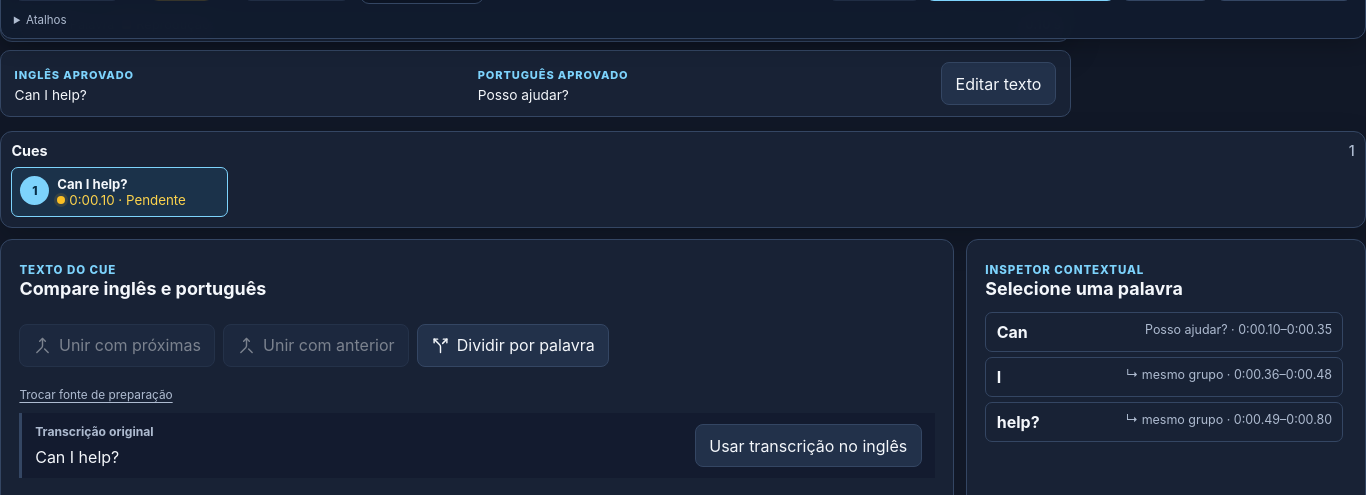
EditorialPage › reviews every word inside a semantic group with independent IN/OUT
(page scrolled)
Step 1. Click the button "Can Posso ajudar? · 0:00.10–0:00.35" → (1164, 332), box 985,312 -> 1343,352
(page scrolled)
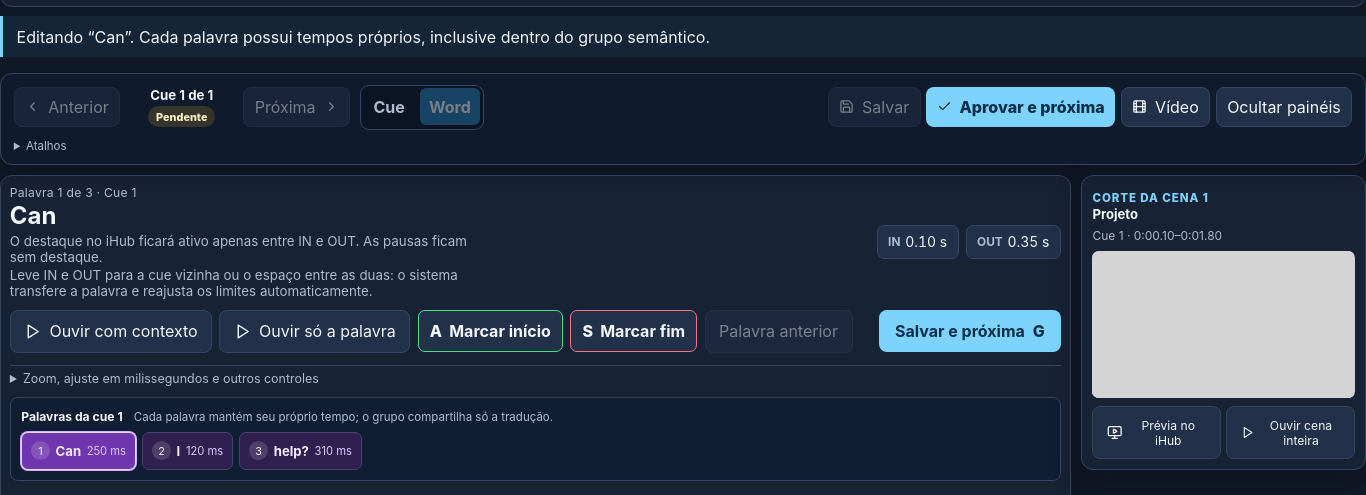
Expected: the text "Can" below "· Cue" is shown, 10,201 -> 56,230
Expected: the text "0.10 s" is shown, 905,234 -> 947,250
Expected: the text "0.35 s" is shown, 1008,234 -> 1049,250
Step 2. Click the button "Salvar e próxima G" → (970, 331), box 879,310 -> 1061,352
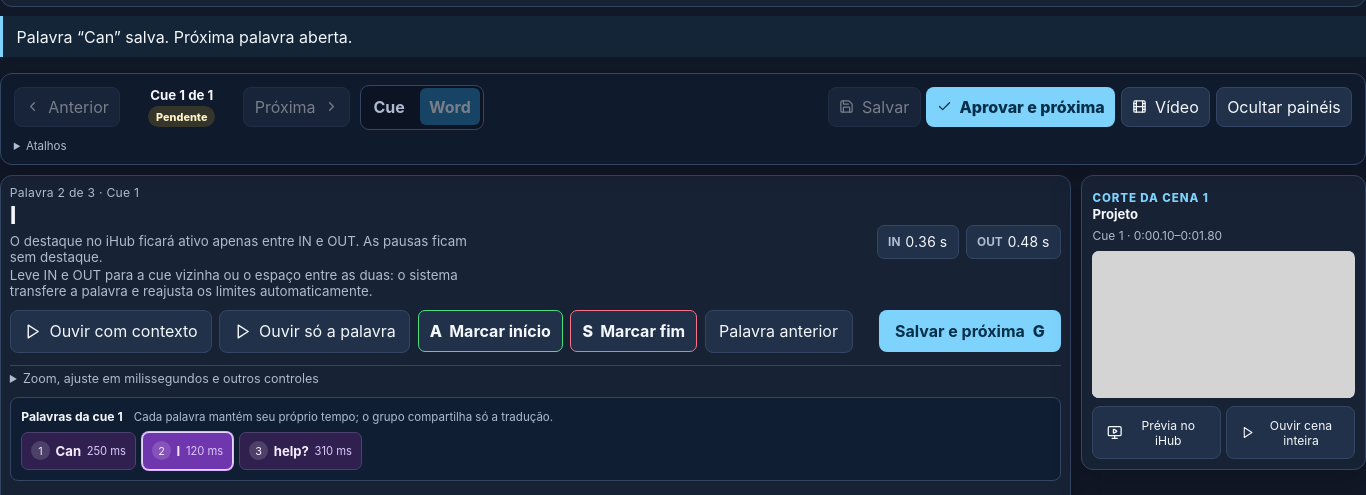
Expected: the text "0.36 s" is shown, 905,234 -> 947,250
Expected: the text "0.48 s" is shown, 1008,234 -> 1049,250
Step 3. Click the button "Salvar e próxima G" → (970, 331), box 879,310 -> 1061,352
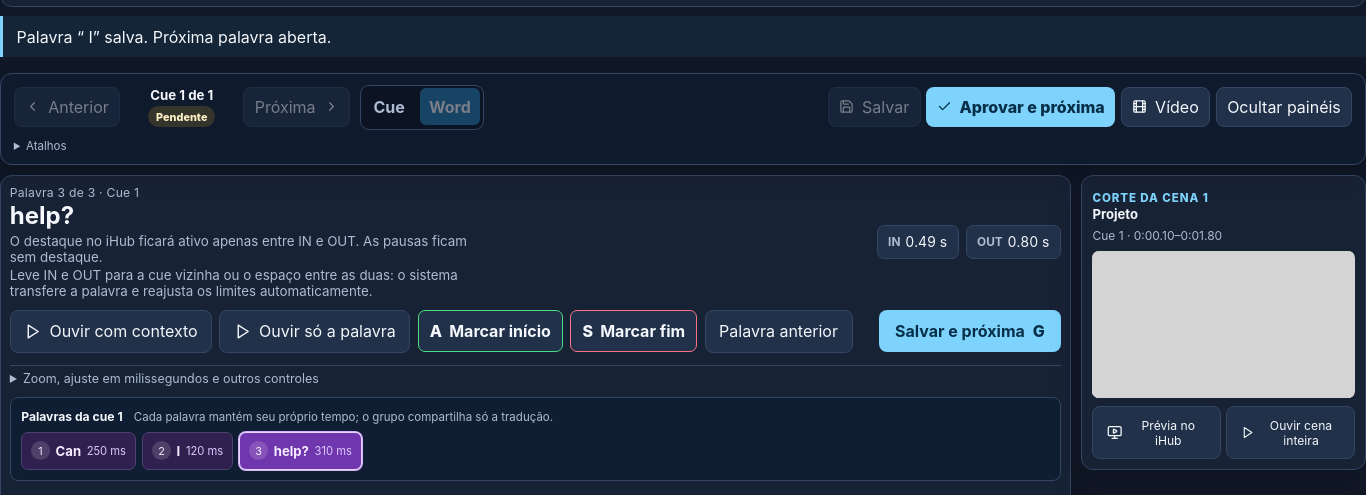
Expected: the text "0.49 s" is shown, 905,234 -> 947,250
Expected: the text "0.80 s" is shown, 1008,234 -> 1049,250
